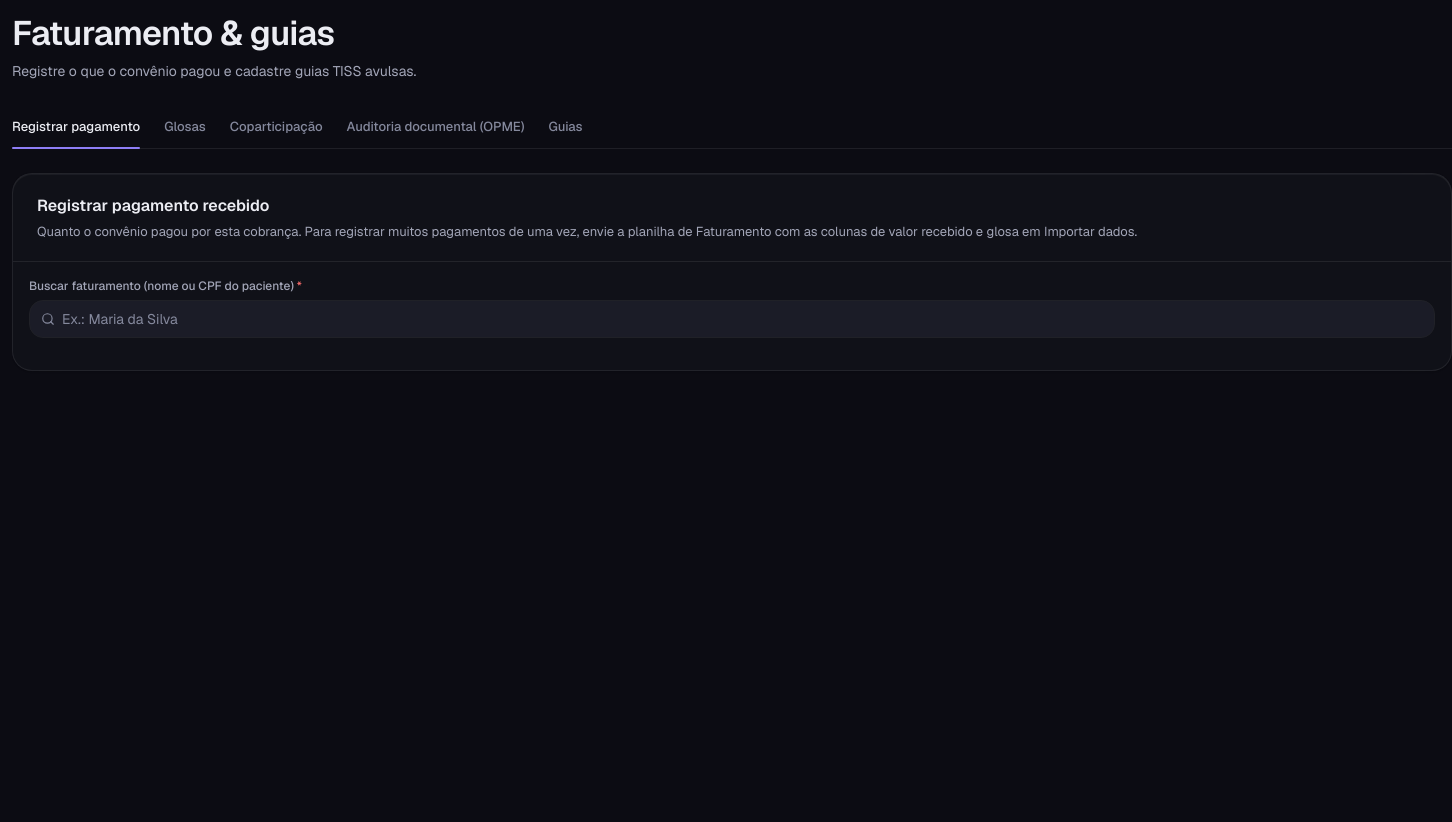
Test: BillingOperationsPage — aba Registrar pagamento › mostra o histórico de transições do faturamento selecionado (transparência de acesso)
Type "Maria da Silva" into the field labelled "Buscar faturamento (nome ou CPF do paciente) *" at (732,319), box x1=29 y1=300 x2=1435 y2=338
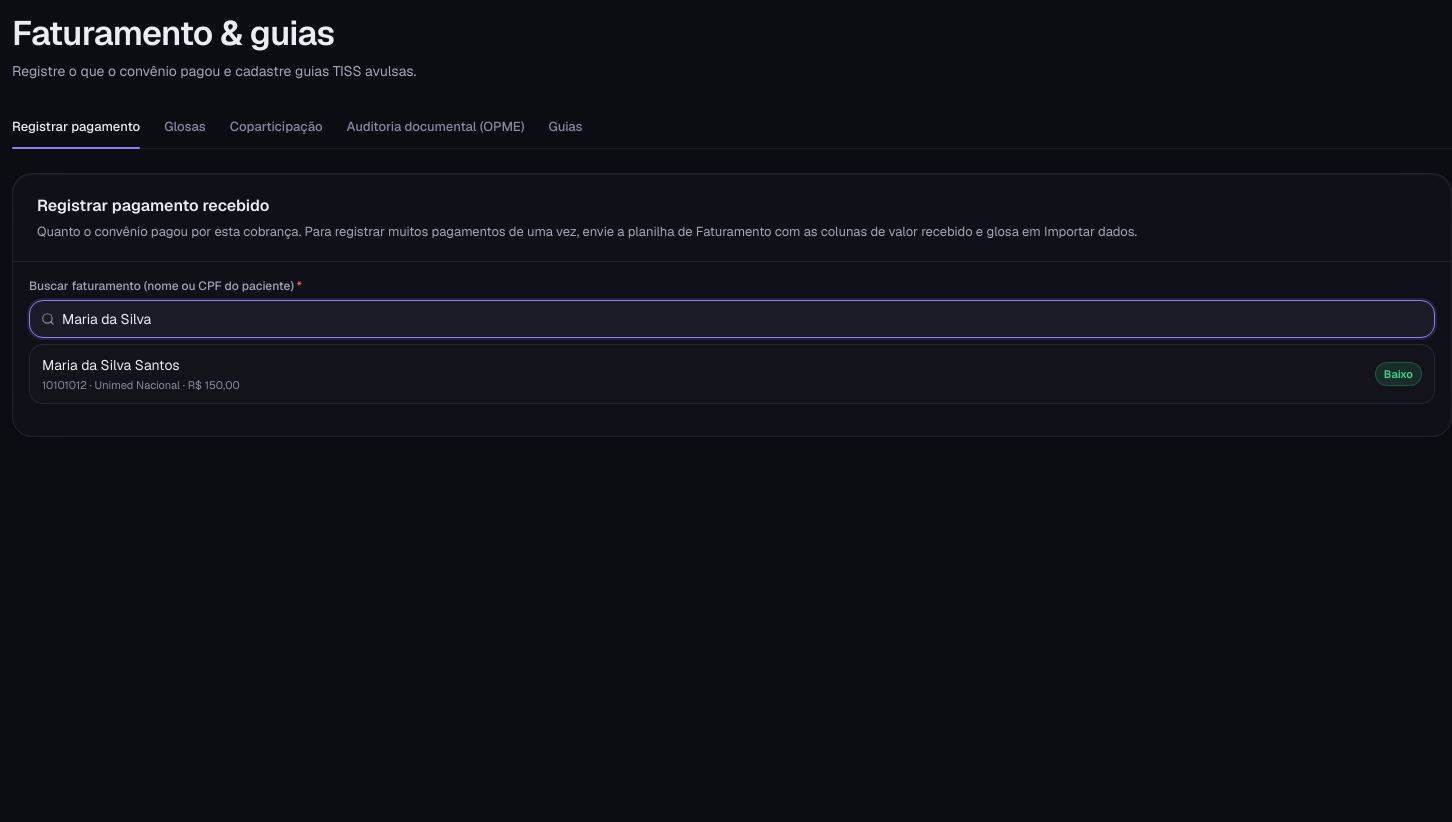
Expected: the text "Maria da Silva Santos" is shown
Click the text "Maria da Silva Santos" at (111,365), box x1=42 y1=356 x2=180 y2=374
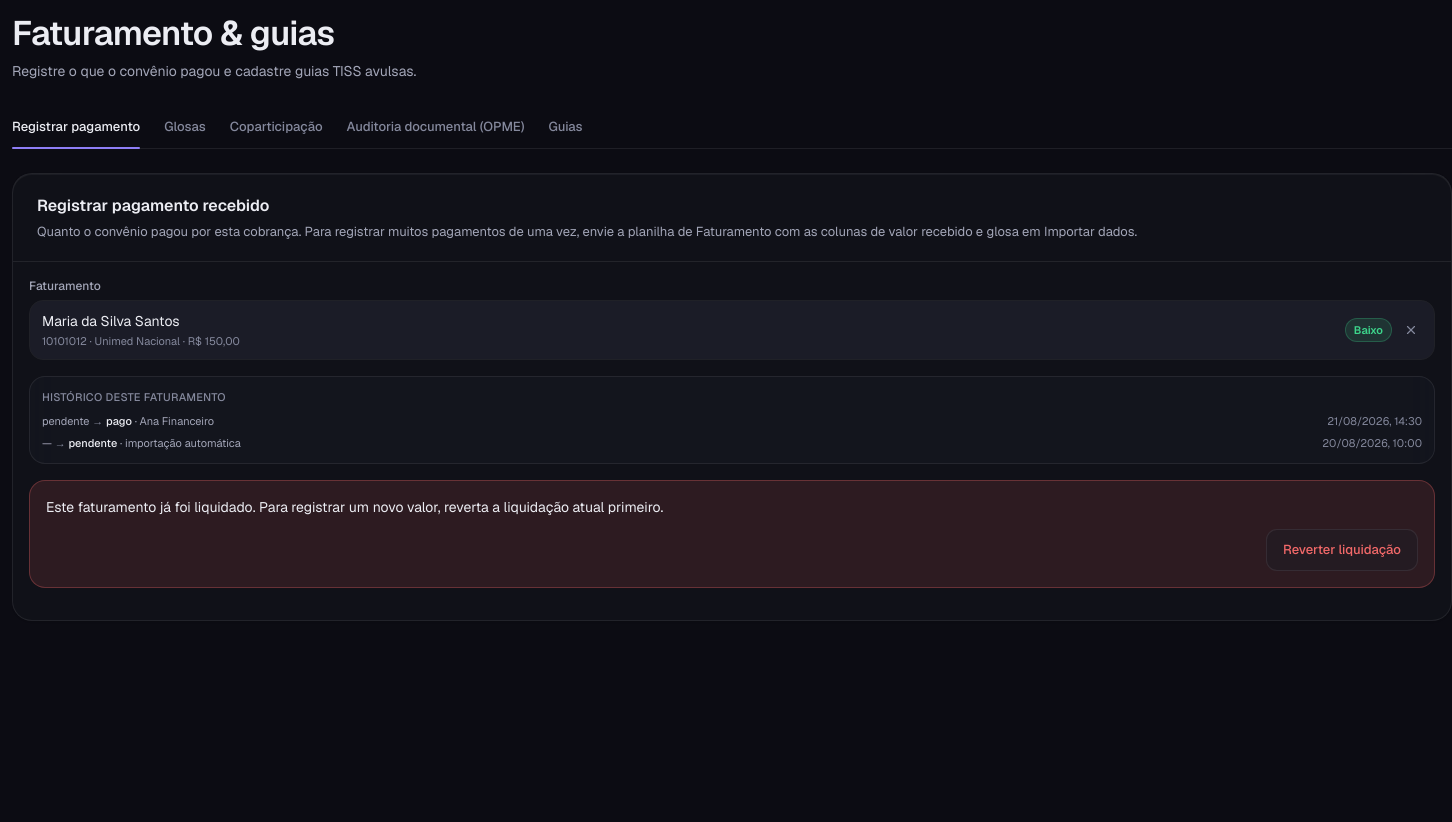
Expected: the text "Histórico deste faturamento" is shown, x1=42 y1=390 x2=226 y2=404
Expected: the text "pendente → pago · Ana Financeiro" is shown, x1=42 y1=413 x2=214 y2=429
Expected: the text "— → pendente · importação automática" is shown, x1=42 y1=435 x2=241 y2=451
